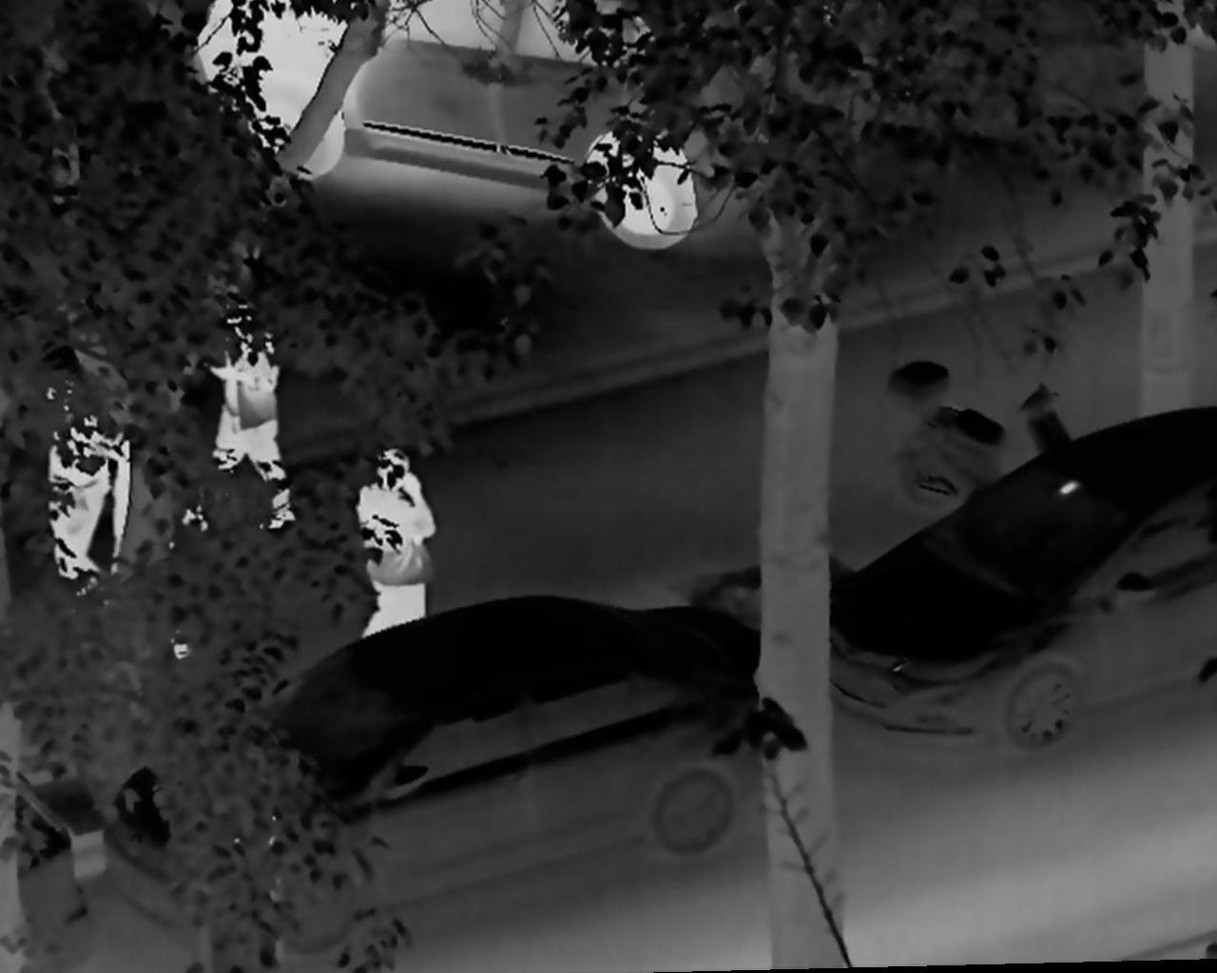person: (185, 297, 304, 539), (98, 411, 200, 667), (349, 448, 449, 647), (40, 363, 112, 603)
